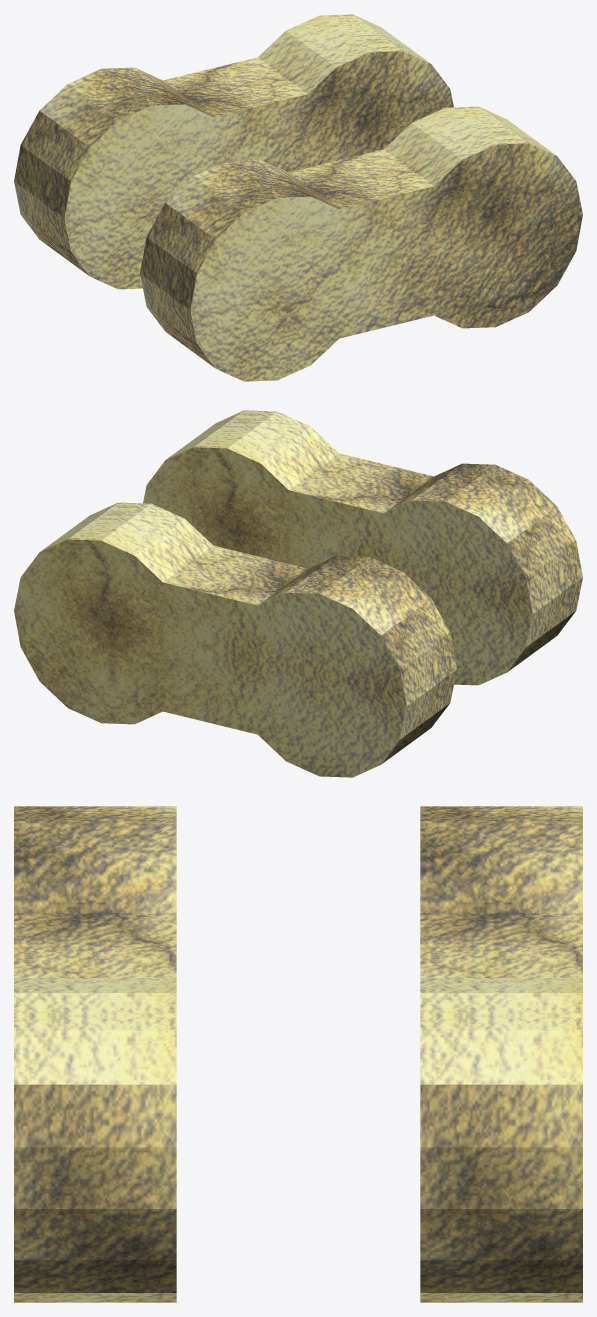
The model's file is thorax.dae.
3 renders of one model, top to bottom at view 1: azimuth 30°, elevation 25°; view 2: azimuth 150°, elevation 25°; view 3: azimuth 270°, elevation 25°, orthographic. The views are drawn at different scales.
Parts seen in each view (by area): view 1: Body_Front_Right_001; view 2: Body_Front_Right_001; view 3: Body_Front_Right_001.
Part boxes in pixels (x1,y1,x2,y2): Body_Front_Right_001: (14,14,582,381); Body_Front_Right_001: (14,410,582,777); Body_Front_Right_001: (14,806,582,1302).
Bounding box in the file's own units: 0.72 × 0.56 × 0.32.
1 material, 1 textured.
